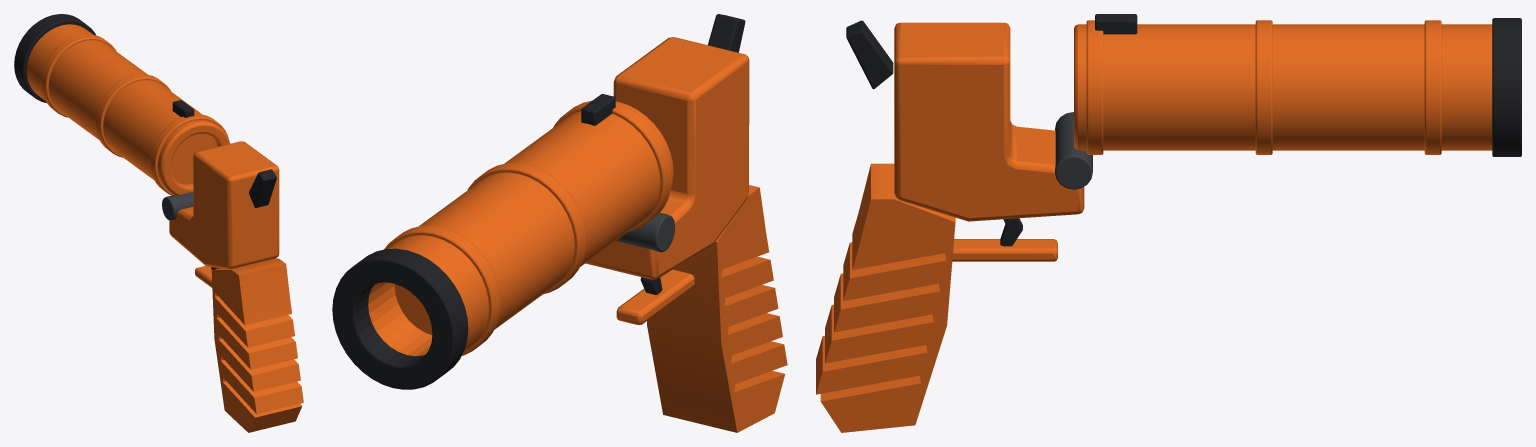
The model's file is signal.glb.
3 renders of one model, left to right at view 1: azimuth 30°, elevation 25°; view 2: azimuth 150°, elevation 25°; view 3: azimuth 270°, elevation 25°, orthographic. The views are drawn at different scales.
Visible parts, largest first — view 1: barrel, grip, frame, ring0, muzzle_ring, ring1, ring2, hammer, hinge, sight; view 2: barrel, grip, frame, muzzle_ring, ring2, ring1, tguard, ring0, hinge, hammer, sight; view 3: barrel, frame, grip, muzzle_ring, ring1, ring2, ring0, tguard, hinge, hammer, sight.
Boxes of the visible parts, left/top/right/bottom form: barrel: left=26, top=24, right=229, bottom=195; grip: left=211, top=258, right=303, bottom=432; frame: left=169, top=141, right=279, bottom=269; ring0: left=150, top=114, right=228, bottom=195; muzzle_ring: left=14, top=14, right=95, bottom=102; ring1: left=95, top=74, right=171, bottom=157; ring2: left=41, top=34, right=116, bottom=117; hammer: left=249, top=169, right=276, bottom=207; hinge: left=162, top=192, right=193, bottom=220; sight: left=172, top=100, right=194, bottom=117; barrel: left=368, top=101, right=673, bottom=356; grip: left=647, top=185, right=787, bottom=432; frame: left=585, top=37, right=749, bottom=279; muzzle_ring: left=332, top=248, right=468, bottom=389; ring2: left=384, top=225, right=500, bottom=355; ring1: left=467, top=163, right=586, bottom=293; tguard: left=616, top=269, right=694, bottom=324; ring0: left=553, top=100, right=671, bottom=231; hinge: left=616, top=212, right=675, bottom=252; hammer: left=708, top=14, right=745, bottom=52; sight: left=581, top=94, right=615, bottom=125; barrel: left=1074, top=24, right=1492, bottom=150; frame: left=894, top=22, right=1084, bottom=221; grip: left=816, top=163, right=955, bottom=432; muzzle_ring: left=1492, top=18, right=1521, bottom=156; ring1: left=1255, top=20, right=1272, bottom=154; ring2: left=1424, top=20, right=1441, bottom=154; ring0: left=1086, top=20, right=1103, bottom=154; tguard: left=952, top=239, right=1057, bottom=261; hinge: left=1055, top=112, right=1092, bottom=189; hammer: left=846, top=20, right=893, bottom=89; sight: left=1095, top=14, right=1137, bottom=34.
Size of the model in its own units: 0.066 by 0.208 by 0.334.
